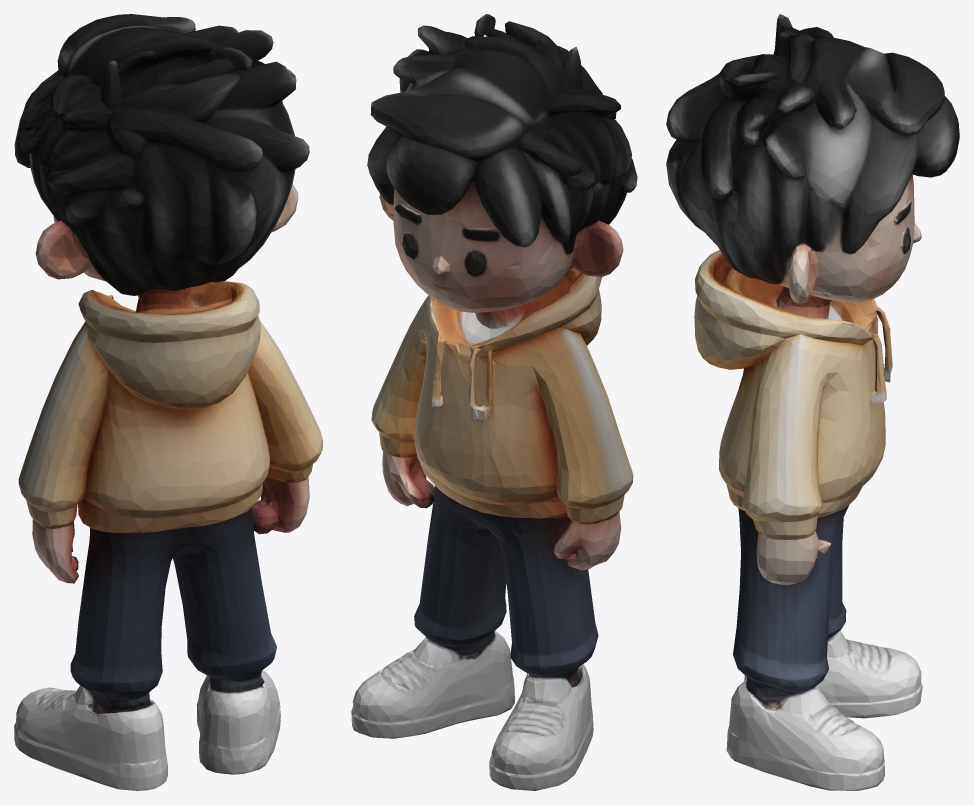
File: avatar.glb
The picture shows the model from 3 angles, left to right: view 1: azimuth 30°, elevation 25°; view 2: azimuth 150°, elevation 25°; view 3: azimuth 270°, elevation 25°; orthographic projection. The views are drawn at different scales.
Parts seen in each view (by area): view 1: world; view 2: world; view 3: world.
Part boxes in pixels (x1,y1,x2,y2): world: [14, 14, 322, 790]; world: [351, 14, 637, 790]; world: [666, 14, 959, 790].
Size of the model in its own units: 0.3969 by 1 by 0.3868.
Materials: 1 (1 with a texture image).
